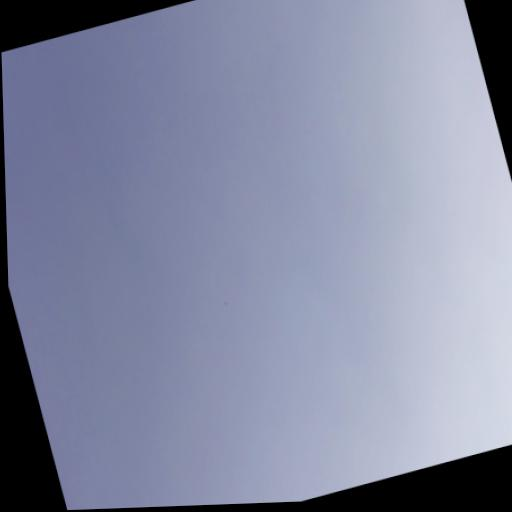drones: (224, 300, 228, 307)
